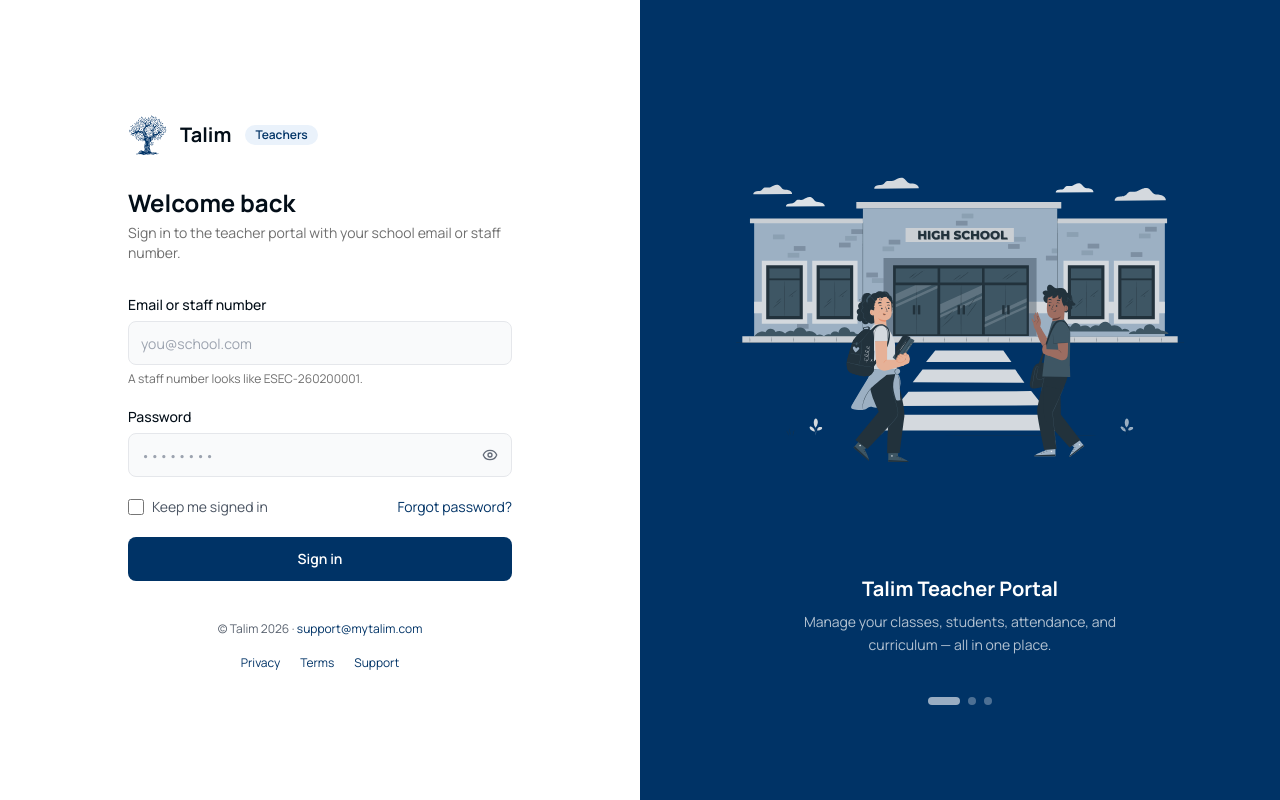
Scenario: a refused sign-in › explains a wrong password in the banner and marks the fields
Check: the button "Sign in" is shown, box [128,537,512,581]
Type "  tolu@school.test " into the field labelled "Email or staff number" at (320,343), box [128,321,512,365]
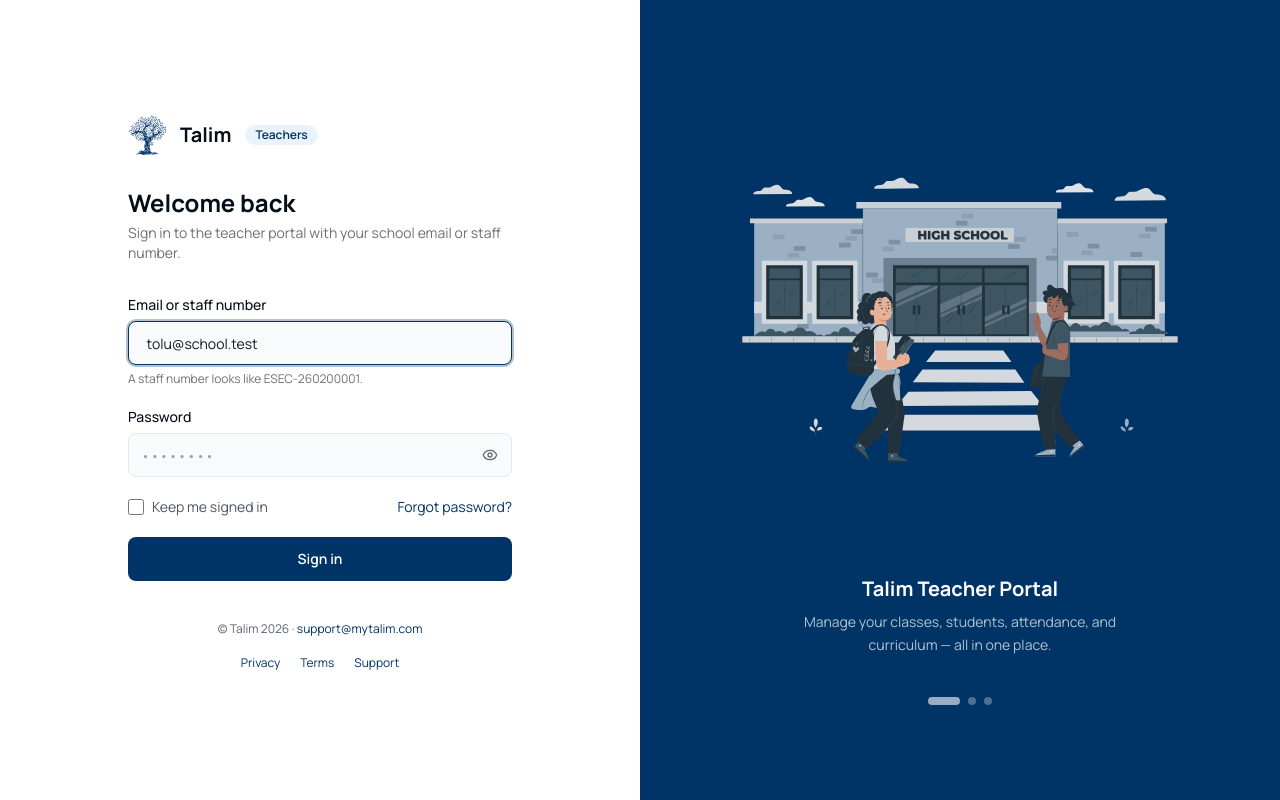
Type "Wrong#Pass1" into the password field labelled "Password" at (320,455), box [128,433,512,477]
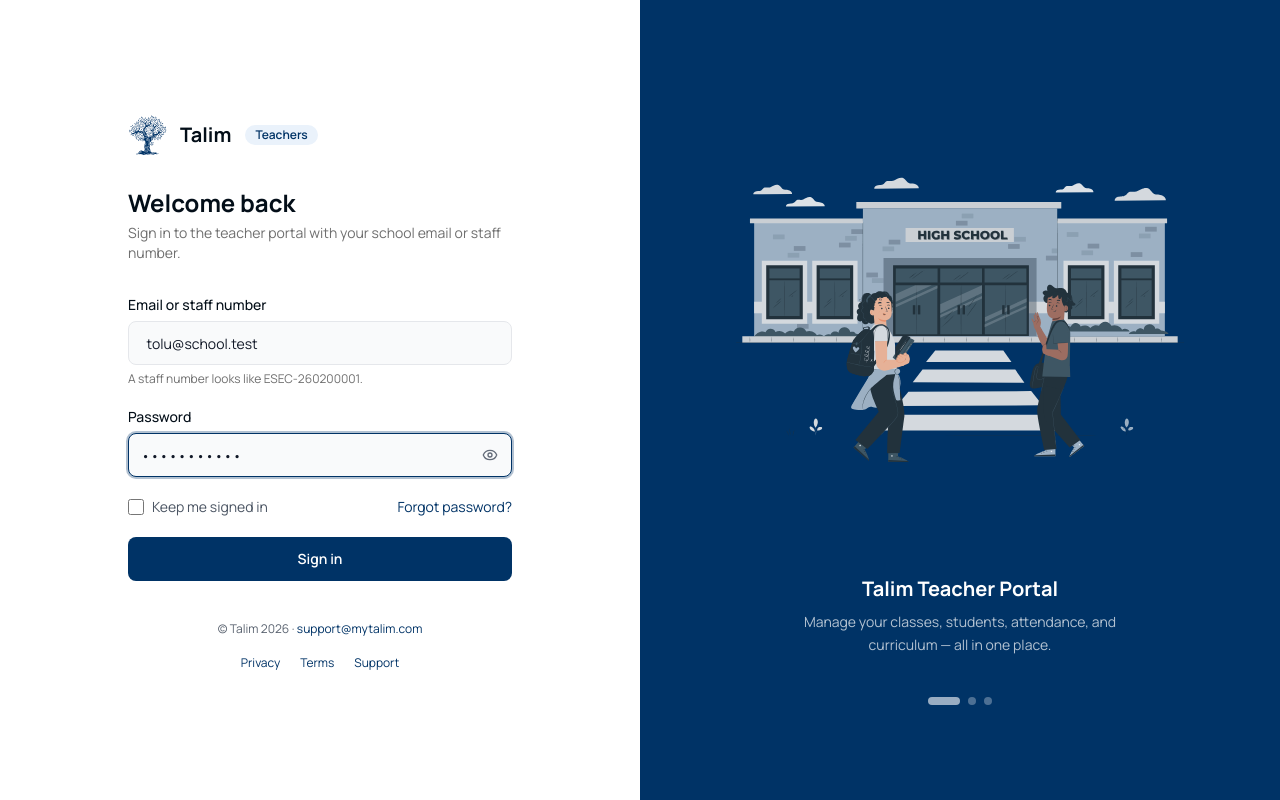
Click the button "Sign in" at (320,559), box [128,537,512,581]
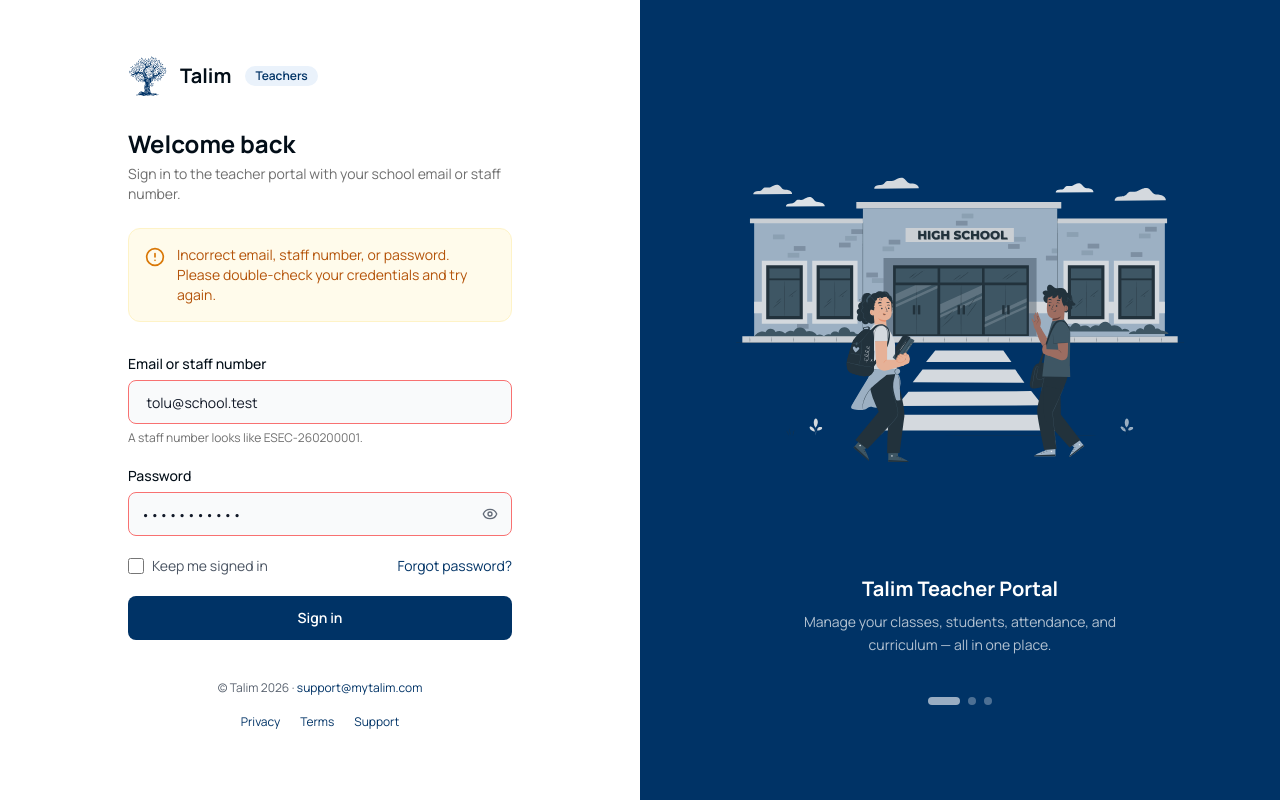
Check: the message shows "Incorrect email, staff number, or password. Please double-check your credentials and try again.", box [177,245,467,304]
